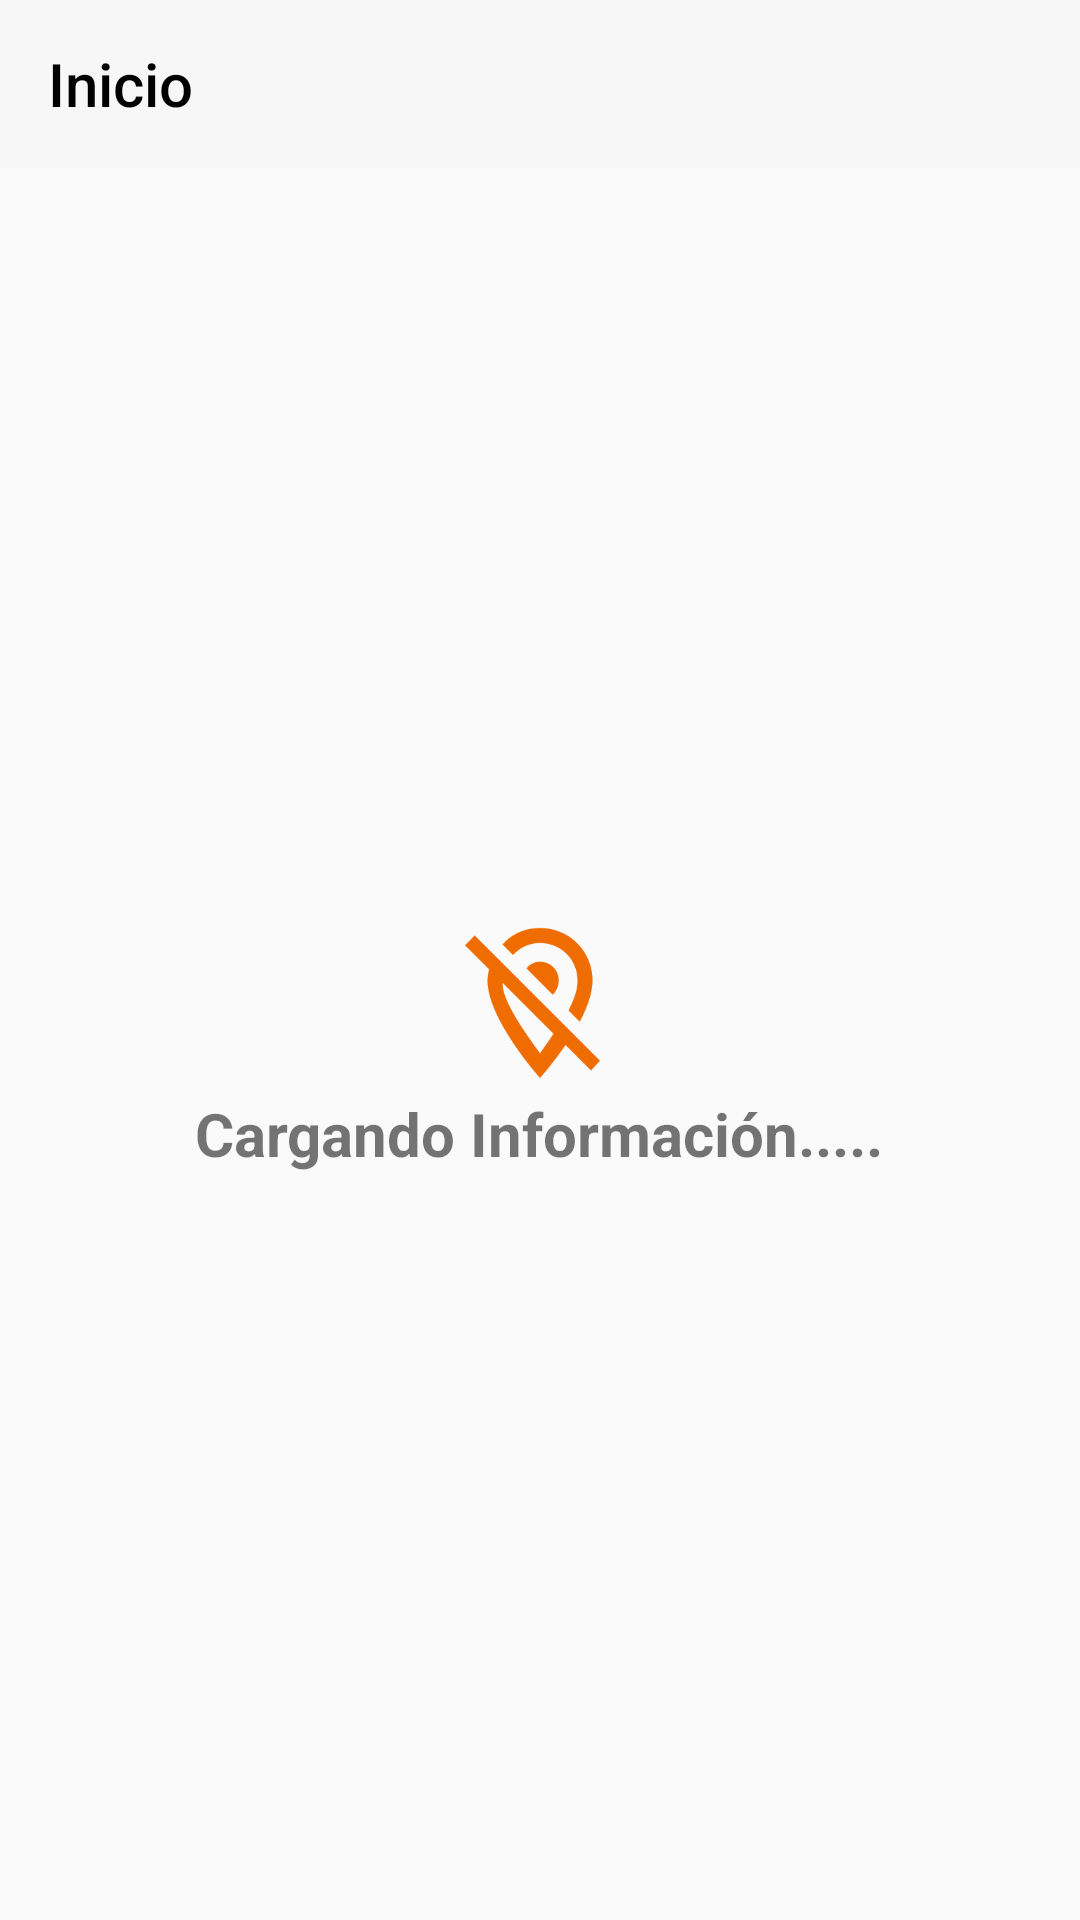

Icon click points for this 1080px x 1920px phone screenshot, format [x,y]:
map empty: [532,1003]
